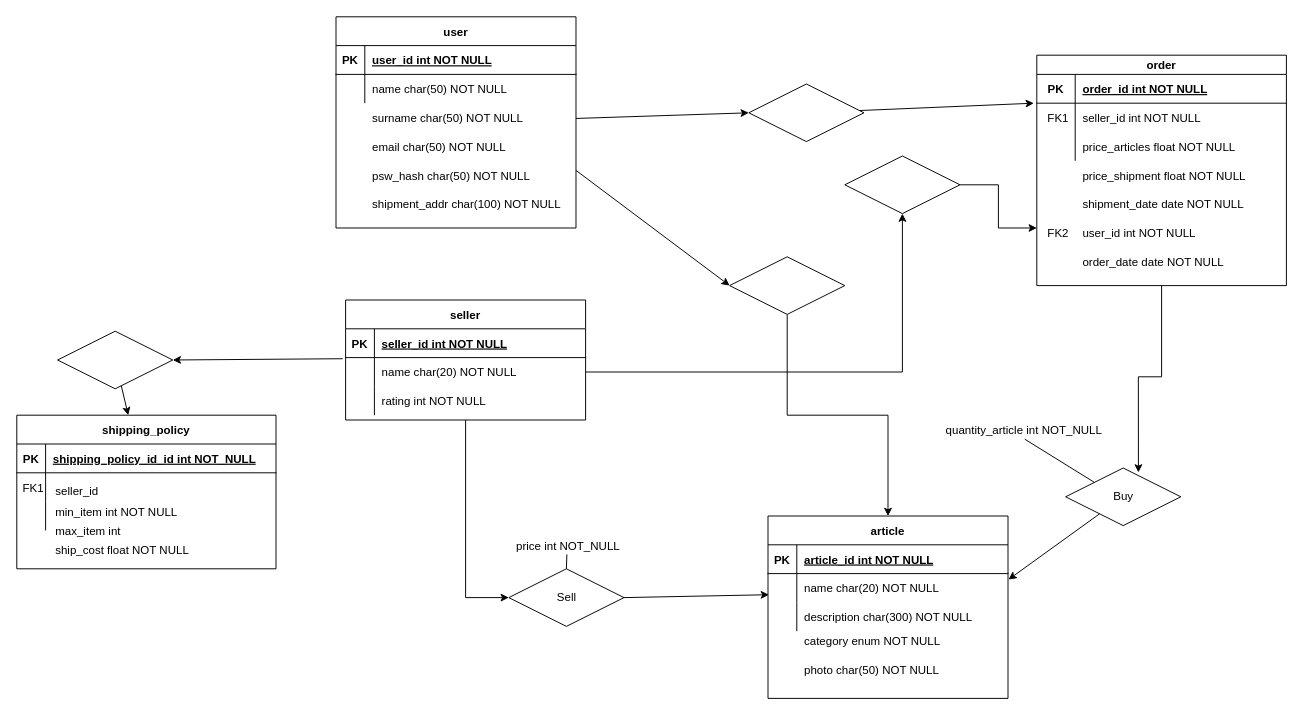
Image size: 1304x715. Some labels were removed from this diagram. Each missing label, with the centre of its shape:
Confirm: (806,112)
Establish: (115,359)
Ship: (902,184)
View: (787,285)
